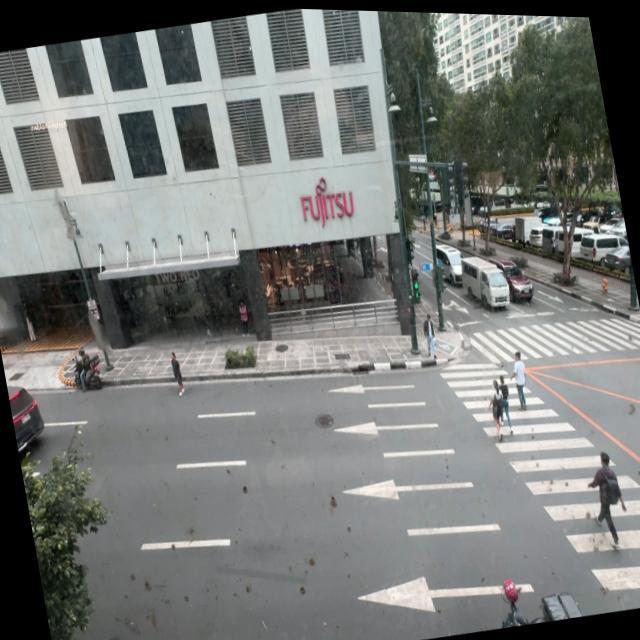jaywalking: (170, 352, 186, 396)
